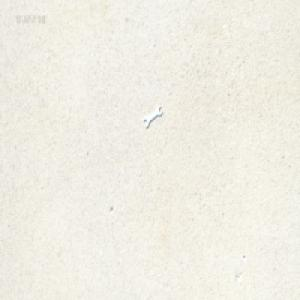Wrench: (143, 106, 163, 129)
